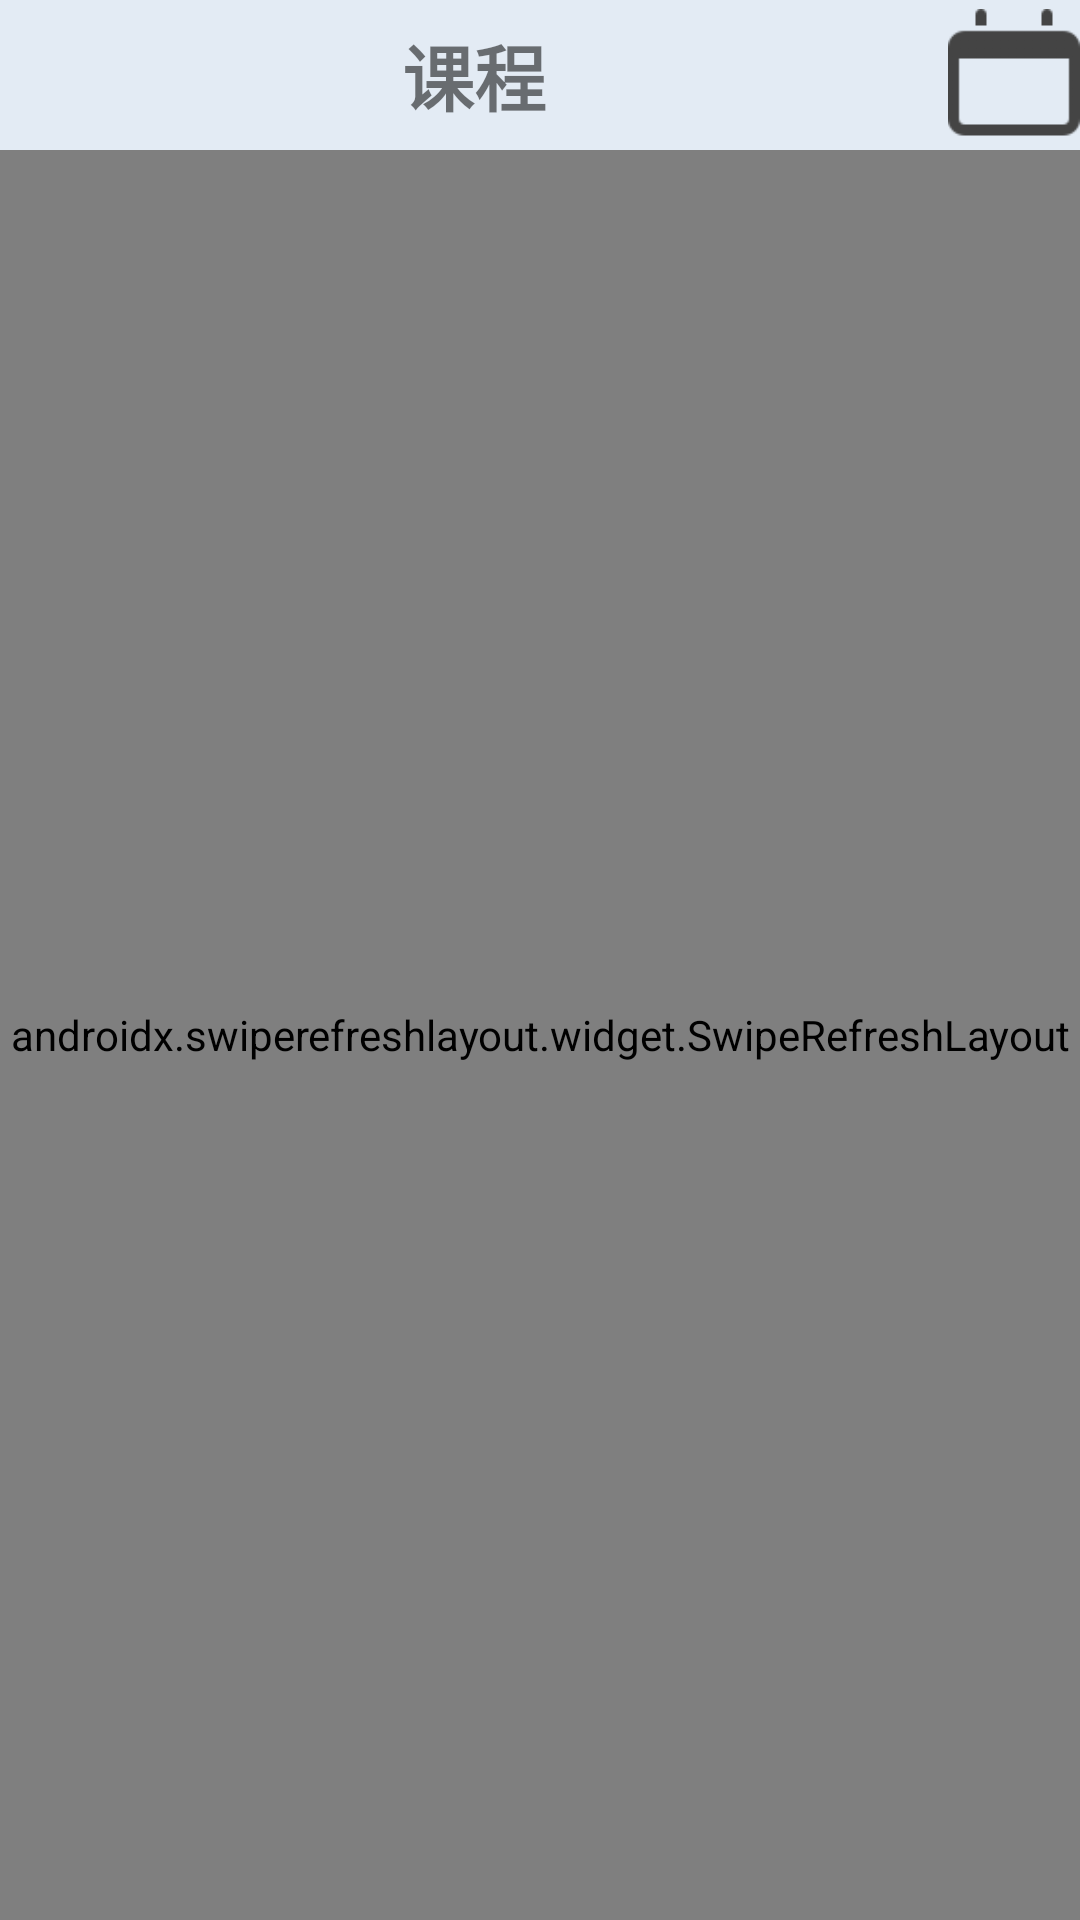

Icon click points for this 1080×1920 phone screenshot, format [x,y]:
calendar glyph: [1014,75]
